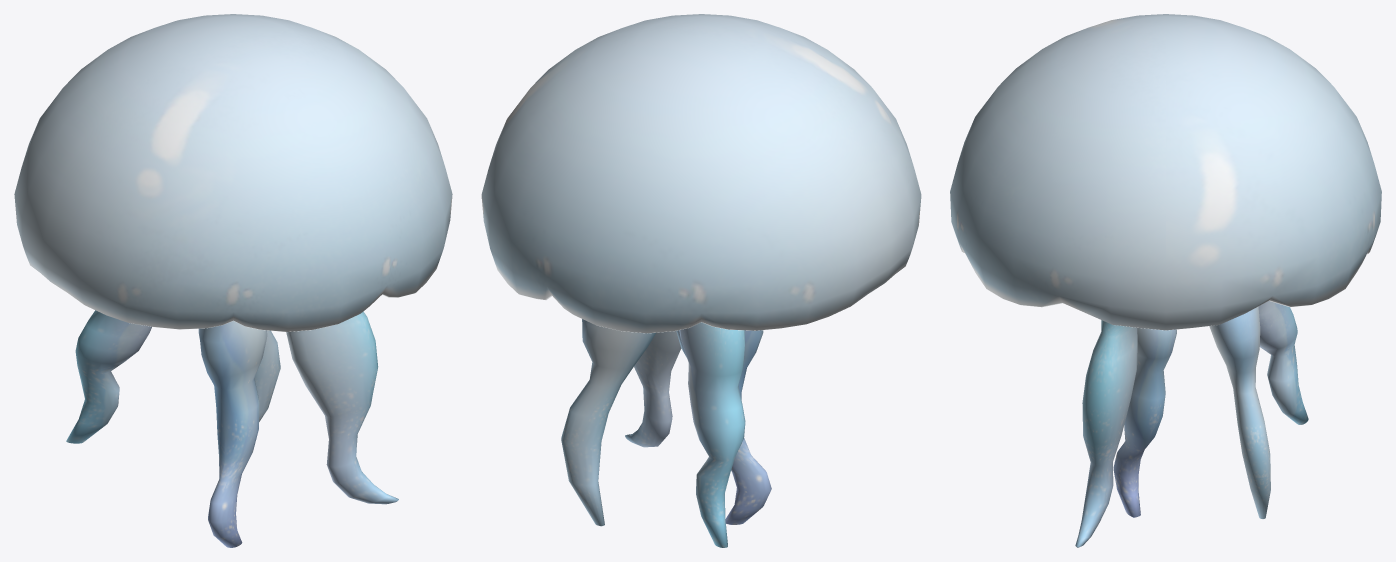
Rendered from sqkpz_shuimu_haiyueshuimu.FBX.
The picture shows the model from 3 angles, left to right: view 1: azimuth 30°, elevation 25°; view 2: azimuth 150°, elevation 25°; view 3: azimuth 270°, elevation 25°; orthographic projection.
Parts seen in each view (by area): view 1: sqkpz_shuimu_haiyueshuimu; view 2: sqkpz_shuimu_haiyueshuimu; view 3: sqkpz_shuimu_haiyueshuimu.
Boxes of the visible parts, x1=… form: sqkpz_shuimu_haiyueshuimu: x1=14, y1=14, x2=452, y2=547; sqkpz_shuimu_haiyueshuimu: x1=481, y1=14, x2=921, y2=547; sqkpz_shuimu_haiyueshuimu: x1=950, y1=14, x2=1381, y2=547.
Size of the model in its own units: 42.08 by 52.41 by 42.08.
Materials: 3 (3 with a texture image).
